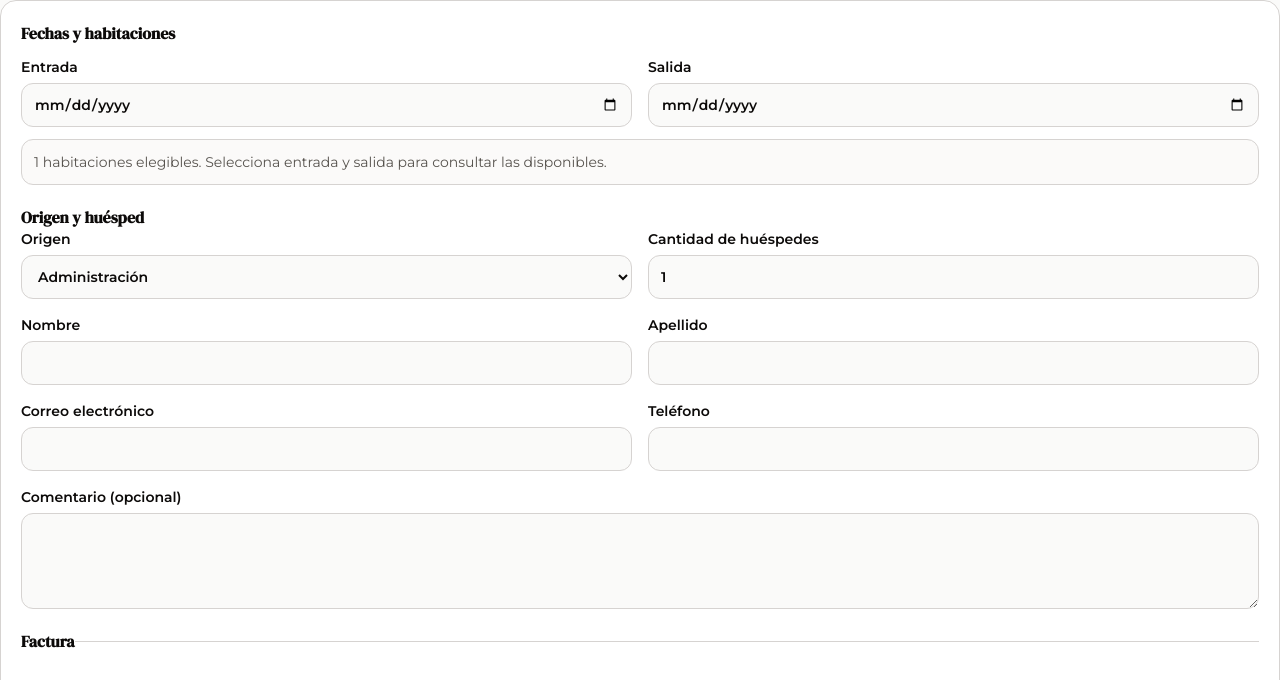
it: manual reservation form › shows a subtotal and total preview once dates and rooms are selected
Type "2033-02-10" into the date field labelled "Entrada". click: (326, 105)
box: 21,83 -> 632,127
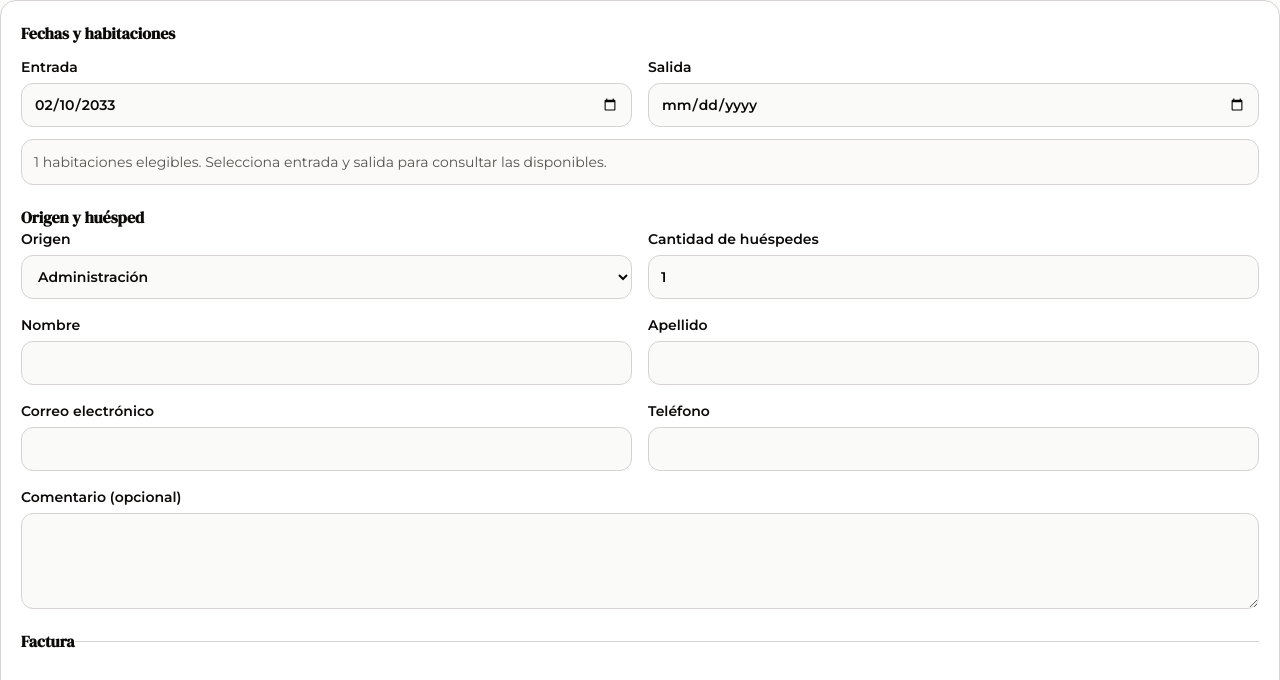
Type "2033-02-12" into the date field labelled "Salida". click: (954, 105)
box: 648,83 -> 1259,127
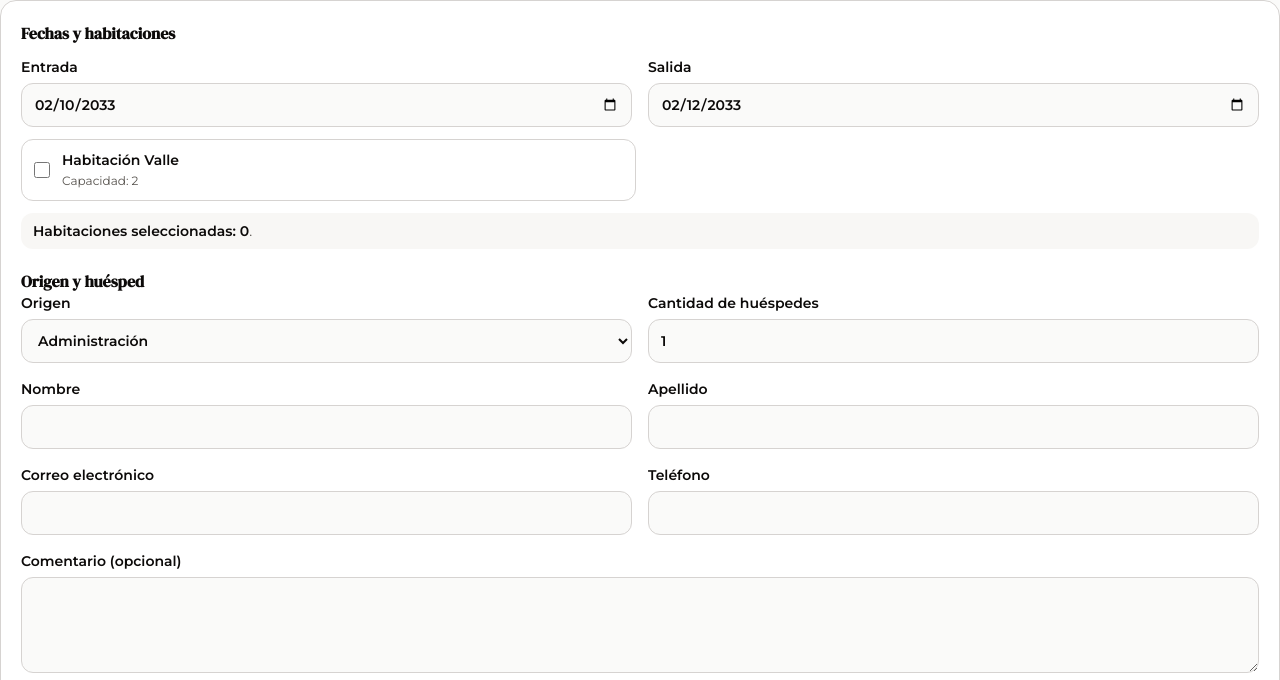
expect the checkbox labelled "Habitación Valle Capacidad: 2" is shown: met
Click the checkbox labelled "Habitación Valle Capacidad: 2". click: (42, 170)
box: 34,162 -> 50,178
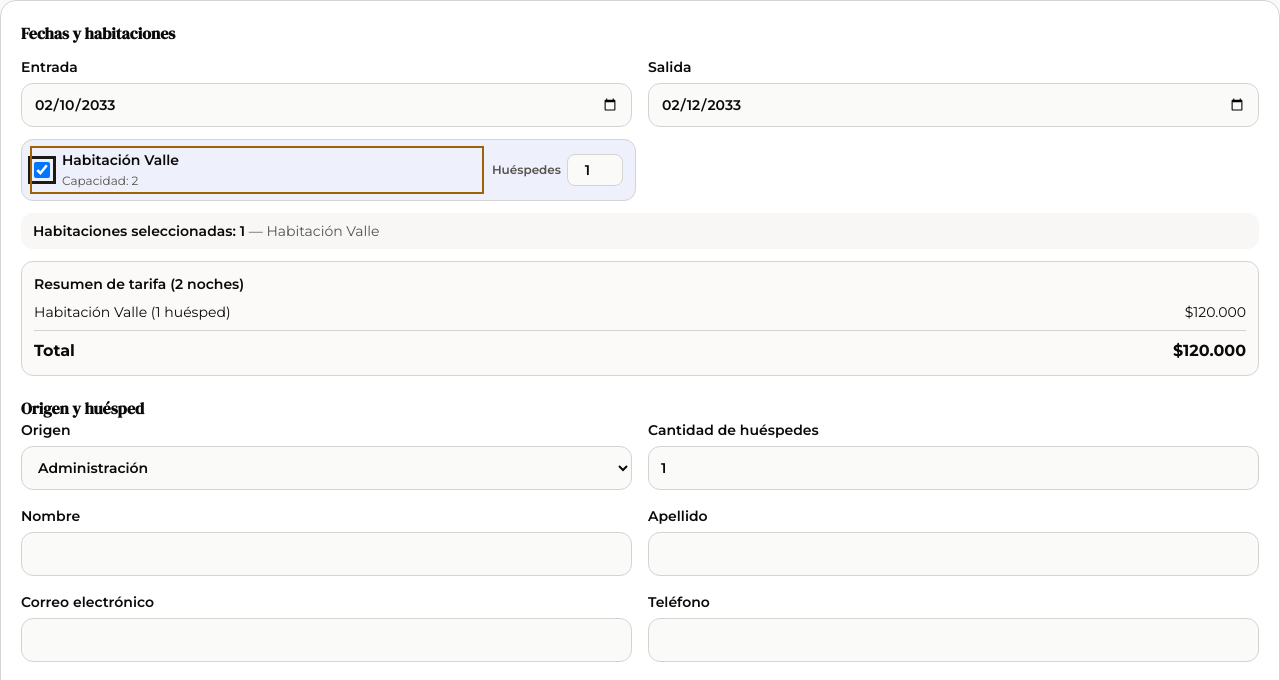
expect the text "Resumen de tarifa (2 noches)" is shown: met, box 34,275 -> 244,293
expect the text "$120.000" is shown 2 times: met, box 1185,302 -> 1246,322; 1173,339 -> 1246,363
